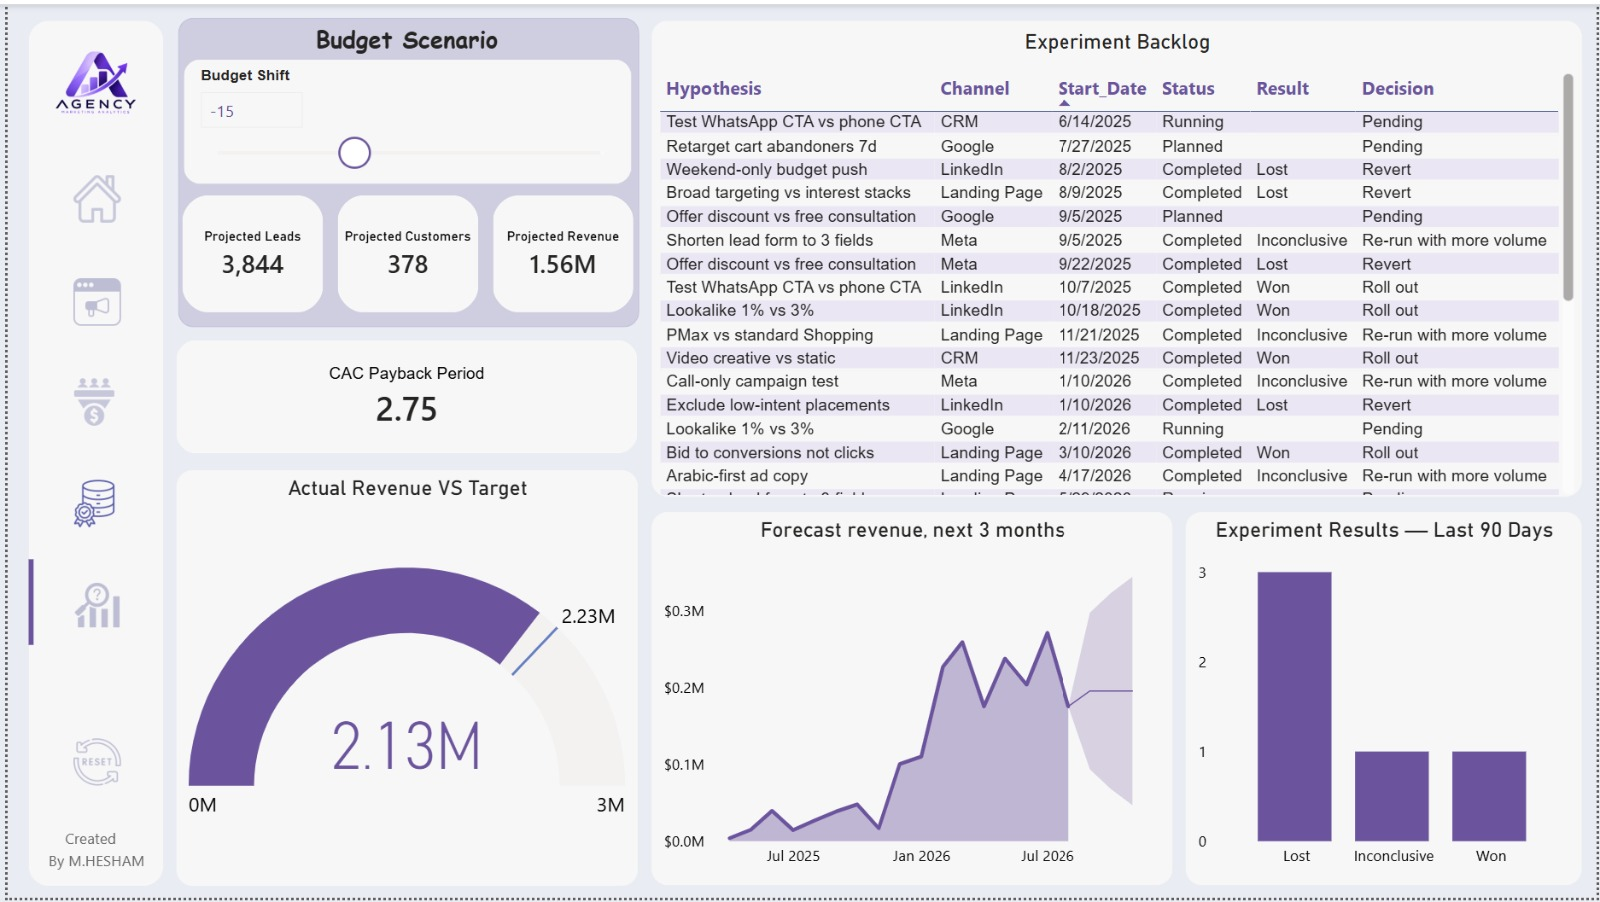

The dashboard page shown, as its layout file describes it:
{"tool":"powerbi","page":{"name":"Forecast & Experiment Backlog","canvas":[1280,720],"ordinal":4},"visuals":[{"type":"shape","box":[137.1,11.6,371.5,249.4],"z":0,"group":"g2"},{"type":"group","id":"g1","title":"Group 2","box":[16.3,13.1,108.6,706.3],"z":0},{"type":"lineChart","title":" Forecast revenue, next 3 months","fields":{"Category":["dim_calendar.Year_Month"],"Y":["A_Measures.Closed_Revenue"]},"box":[518.6,409.6,420.1,300.6],"z":1000},{"type":"cardVisual","fields":{"Data":["A_Measures.CAC_Payback_Period"]},"box":[136.5,270.4,371.5,91.9],"z":2000},{"type":"slicer","fields":{"Values":["Parameter.Parameter"]},"box":[141.9,45.4,359.7,99.8],"z":3000,"group":"g3"},{"type":"gauge","title":"Actual Revenue VS Target","fields":{"TargetValue":["A_Measures.Quarterly_Target"],"Y":["A_Measures.Actual_Revenue(Target Table)"]},"box":[136.5,375.5,371.5,334.8],"z":3000},{"type":"group","id":"g2","title":"Group 4","box":[137.1,10,371.5,251.1],"z":4000},{"type":"shape","box":[16.3,13.1,108.6,697.1],"z":4000,"group":"g4"},{"type":"cardVisual","fields":{"Data":["A_Measures.Projected Leads","A_Measures.Projected Customers","A_Measures.Projected Revenue"]},"box":[140.6,155,363.2,94.4],"z":4000,"group":"g3"},{"type":"group","id":"g3","title":"Group 3","box":[140.6,10,363.2,239.4],"z":5000,"group":"g2"},{"type":"tableEx","title":"Experiment Backlog","fields":{"Values":["Fact_Experiments.Hypothesis","Fact_Experiments.Channel","Fact_Experiments.Start_Date","Fact_Experiments.Status","Fact_Experiments.Result","Fact_Experiments.Decision"]},"box":[518.6,13.1,749.6,383.4],"z":5000},{"type":"image","box":[51.8,135.3,38.1,42],"z":5000,"group":"g4"},{"type":"image","box":[51.8,219.3,38.1,42],"z":6000,"group":"g4"},{"type":"clusteredColumnChart","title":"Experiment Results — Last 90 Days","fields":{"Category":["Fact_Experiments.Result"],"Y":["CountNonNull(Fact_Experiments.Result)"]},"box":[949.2,409.6,319,300.6],"z":6000},{"type":"textbox","box":[152.2,10,337.4,38.1],"z":6001,"group":"g3"},{"type":"image","box":[51.8,589.5,38.1,42],"z":7000,"group":"g4"},{"type":"image","box":[50.5,299.4,38.1,42],"z":8000,"group":"g4"},{"type":"image","box":[50.5,380.8,38.1,42],"z":9000,"group":"g4"},{"type":"image","box":[51.8,463.5,38.1,42],"z":9250,"group":"g4"},{"type":"pageNavigator","box":[16.3,131.3,102.4,389.9],"z":9500,"group":"g4"},{"type":"group","id":"g4","title":"Group 1","box":[16.3,13.1,108.6,697.1],"z":11000,"group":"g1"},{"type":"image","box":[29.4,21,81.4,80.1],"z":11000,"group":"g4"},{"type":"textbox","box":[17.1,656.4,105,63],"z":11500,"group":"g1"}]}

Visuals, with their boxes in screenshot pixels (x1, y1, x2, y2), scaled from the page's 1280x720 canvas onto the 1600x902 screenshot:
shape: 171, 15, 636, 327
"Group 2" group: 20, 16, 156, 901
" Forecast revenue, next 3 months" lineChart: 648, 513, 1173, 890
cardVisual - A_Measures.CAC_Payback_Period: 171, 339, 635, 454
slicer - Parameter.Parameter: 177, 57, 627, 182
"Actual Revenue VS Target" gauge: 171, 470, 635, 890
"Group 4" group: 171, 13, 636, 327
shape: 20, 16, 156, 890
cardVisual - A_Measures.Projected Leads x A_Measures.Projected Customers: 176, 194, 630, 312
"Group 3" group: 176, 13, 630, 312
"Experiment Backlog" tableEx: 648, 16, 1585, 497
image: 65, 170, 112, 222
image: 65, 275, 112, 327
"Experiment Results — Last 90 Days" clusteredColumnChart: 1186, 513, 1585, 890
textbox: 190, 13, 612, 60
image: 65, 739, 112, 791
image: 63, 375, 111, 428
image: 63, 477, 111, 530
image: 65, 581, 112, 633
pageNavigator: 20, 164, 148, 653
"Group 1" group: 20, 16, 156, 890
image: 37, 26, 138, 127
textbox: 21, 822, 153, 901
